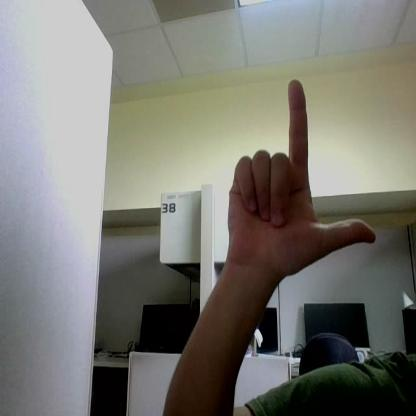L: (229, 80, 374, 276)
